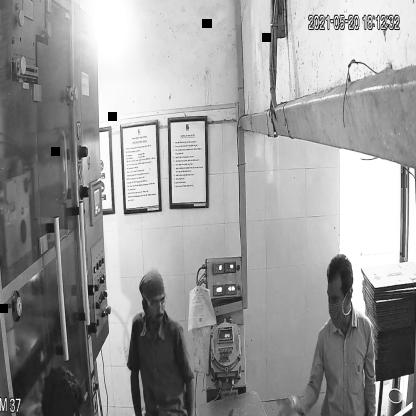goggles: (142, 291, 168, 310)
no_goggles: (324, 287, 350, 310)
